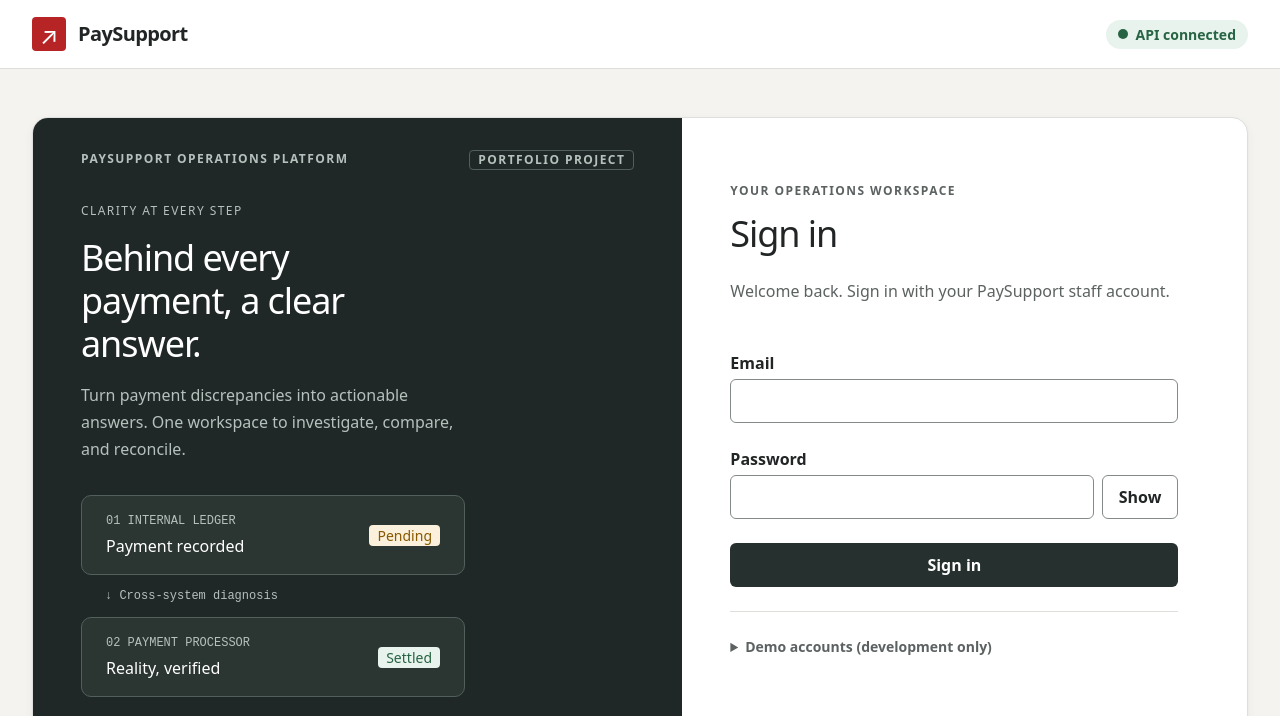
it: workspace › opens the full diagnosis from a queue row
Step 1. Type "engineer@paysupport.test" into the field labelled "Email" → (954, 401), box [730,379,1178,423]
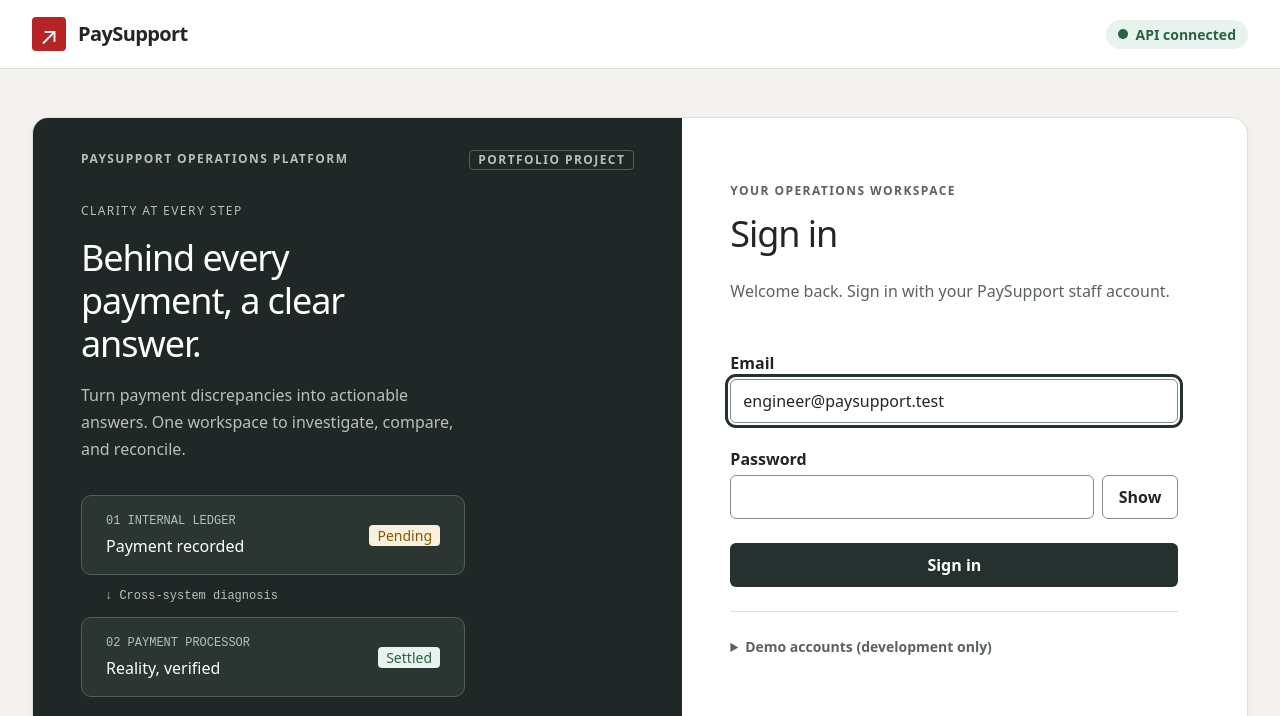
Step 2. Type "test-password" into the password field labelled "Password" → (912, 497), box [730,475,1094,519]
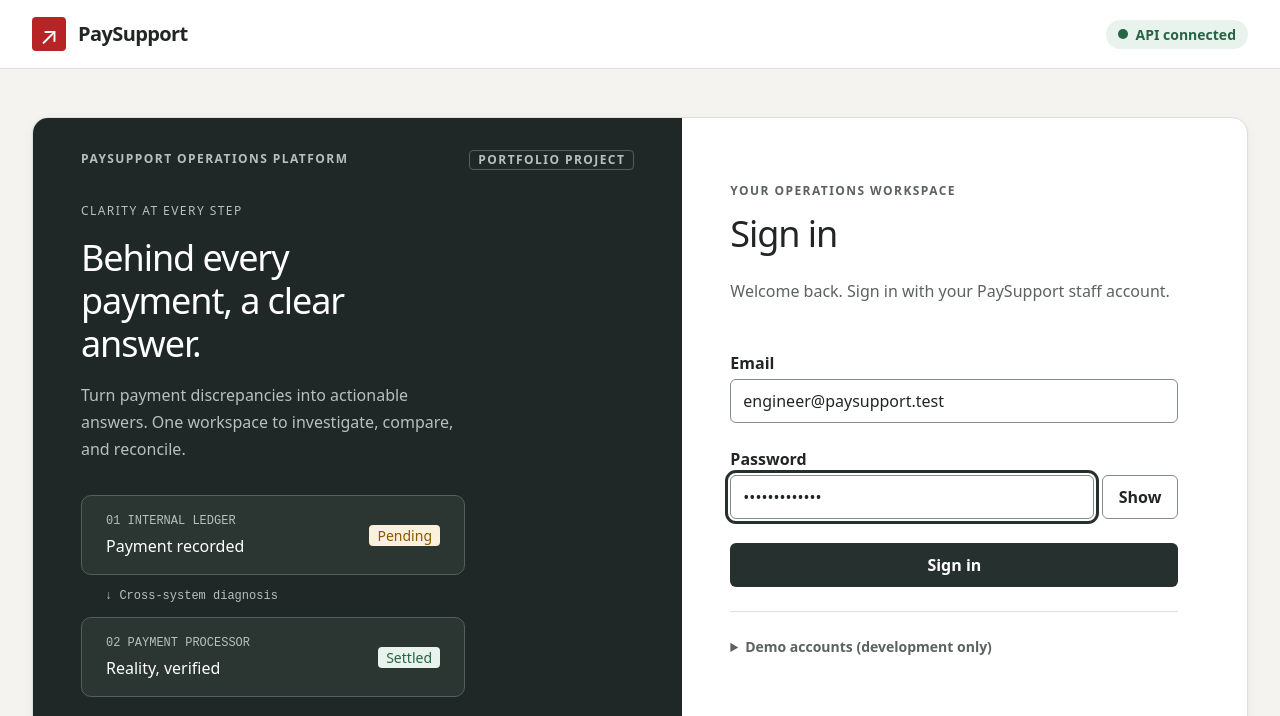
Step 3. Click the button "Sign in" → (954, 565), box [730,543,1178,587]
(page scrolled)
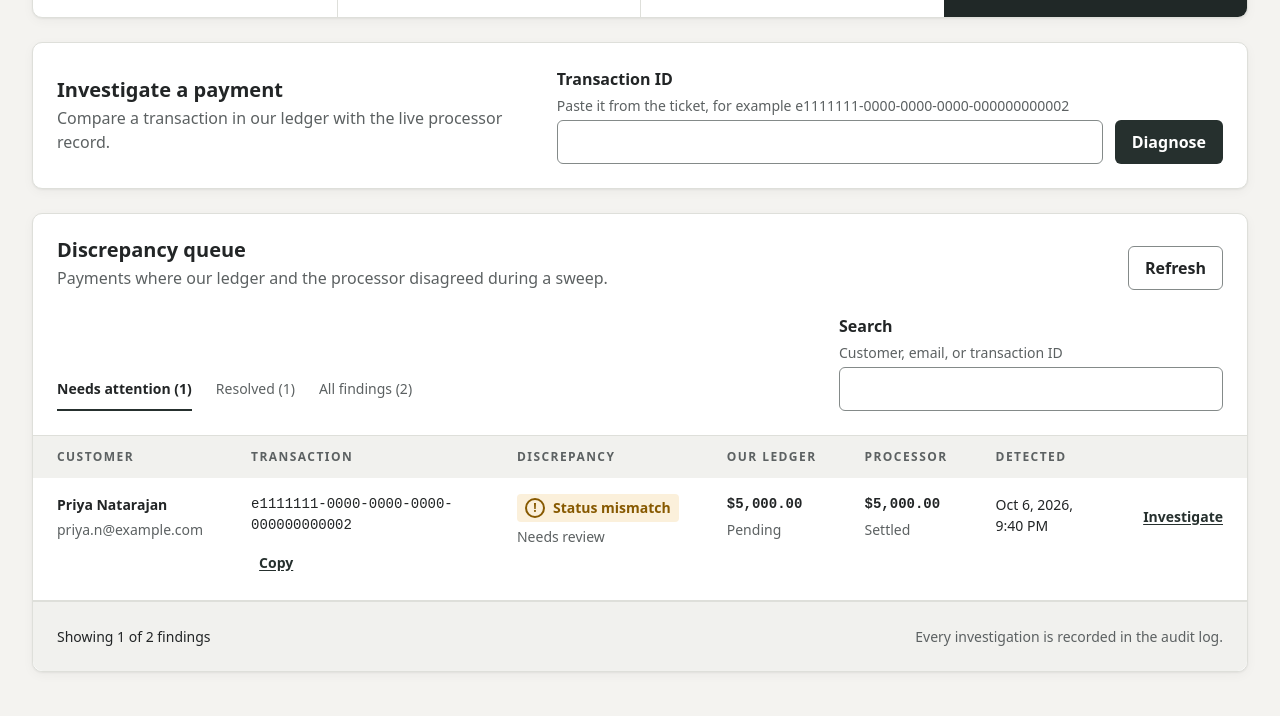
Step 4. Click the link named "Investigate Priya Natarajan’s transaction" → (1183, 516), box [1143,494,1223,538]
(page scrolled)
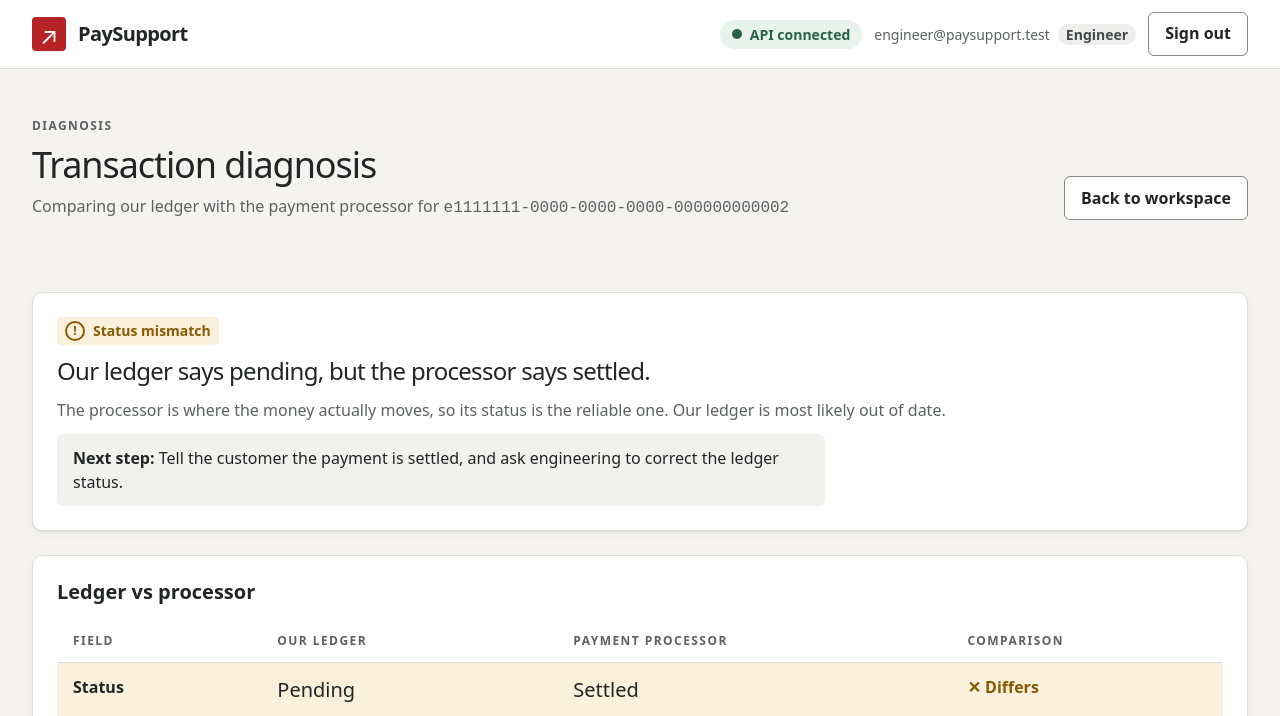
Expected: the text "Status mismatch" is shown, [93,321,211,340]
Expected: the heading "Transaction diagnosis" is shown, [32,140,376,189]
